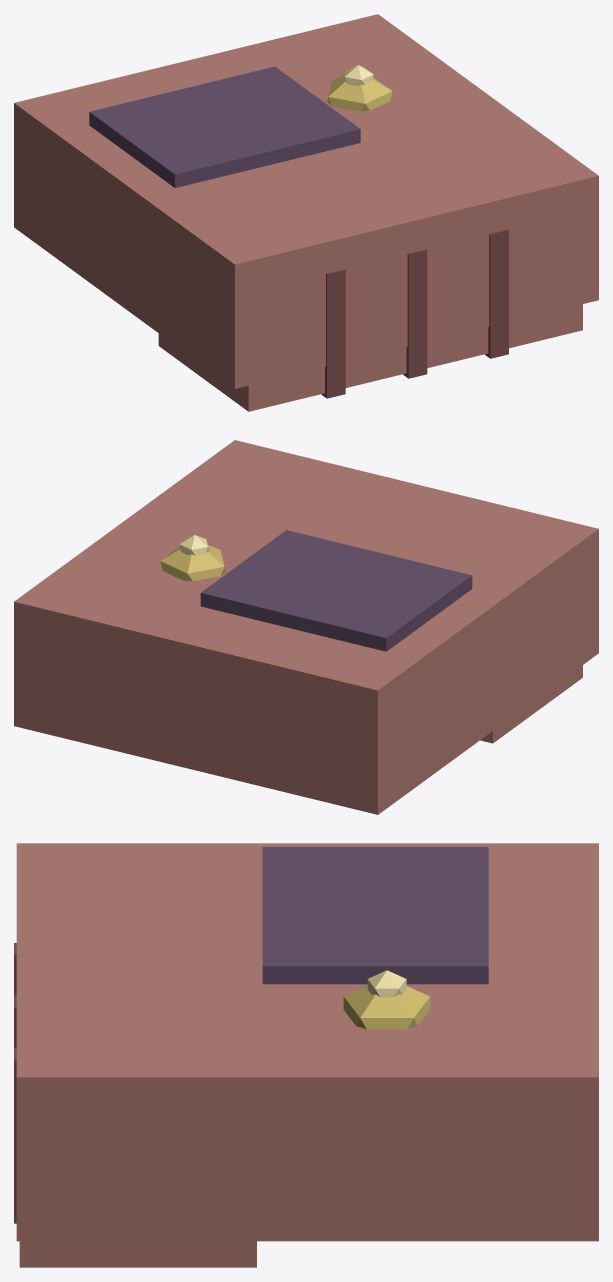
Rendered from inf_v2_walker_hand_l.fbx.
3 views of the same model, one above another, from view 1: azimuth 30°, elevation 25°; view 2: azimuth 150°, elevation 25°; view 3: azimuth 270°, elevation 25° (orthographic). The views are drawn at different scales.
Visible parts, largest first — view 1: inf_v2_walker_hand_l; view 2: inf_v2_walker_hand_l; view 3: inf_v2_walker_hand_l.
Boxes of the visible parts, x1,y1,x2,y2 form: inf_v2_walker_hand_l: (14, 14, 598, 411); inf_v2_walker_hand_l: (14, 440, 598, 814); inf_v2_walker_hand_l: (14, 843, 598, 1267).
Size of the model in its own units: 98 by 48.35 by 104.
